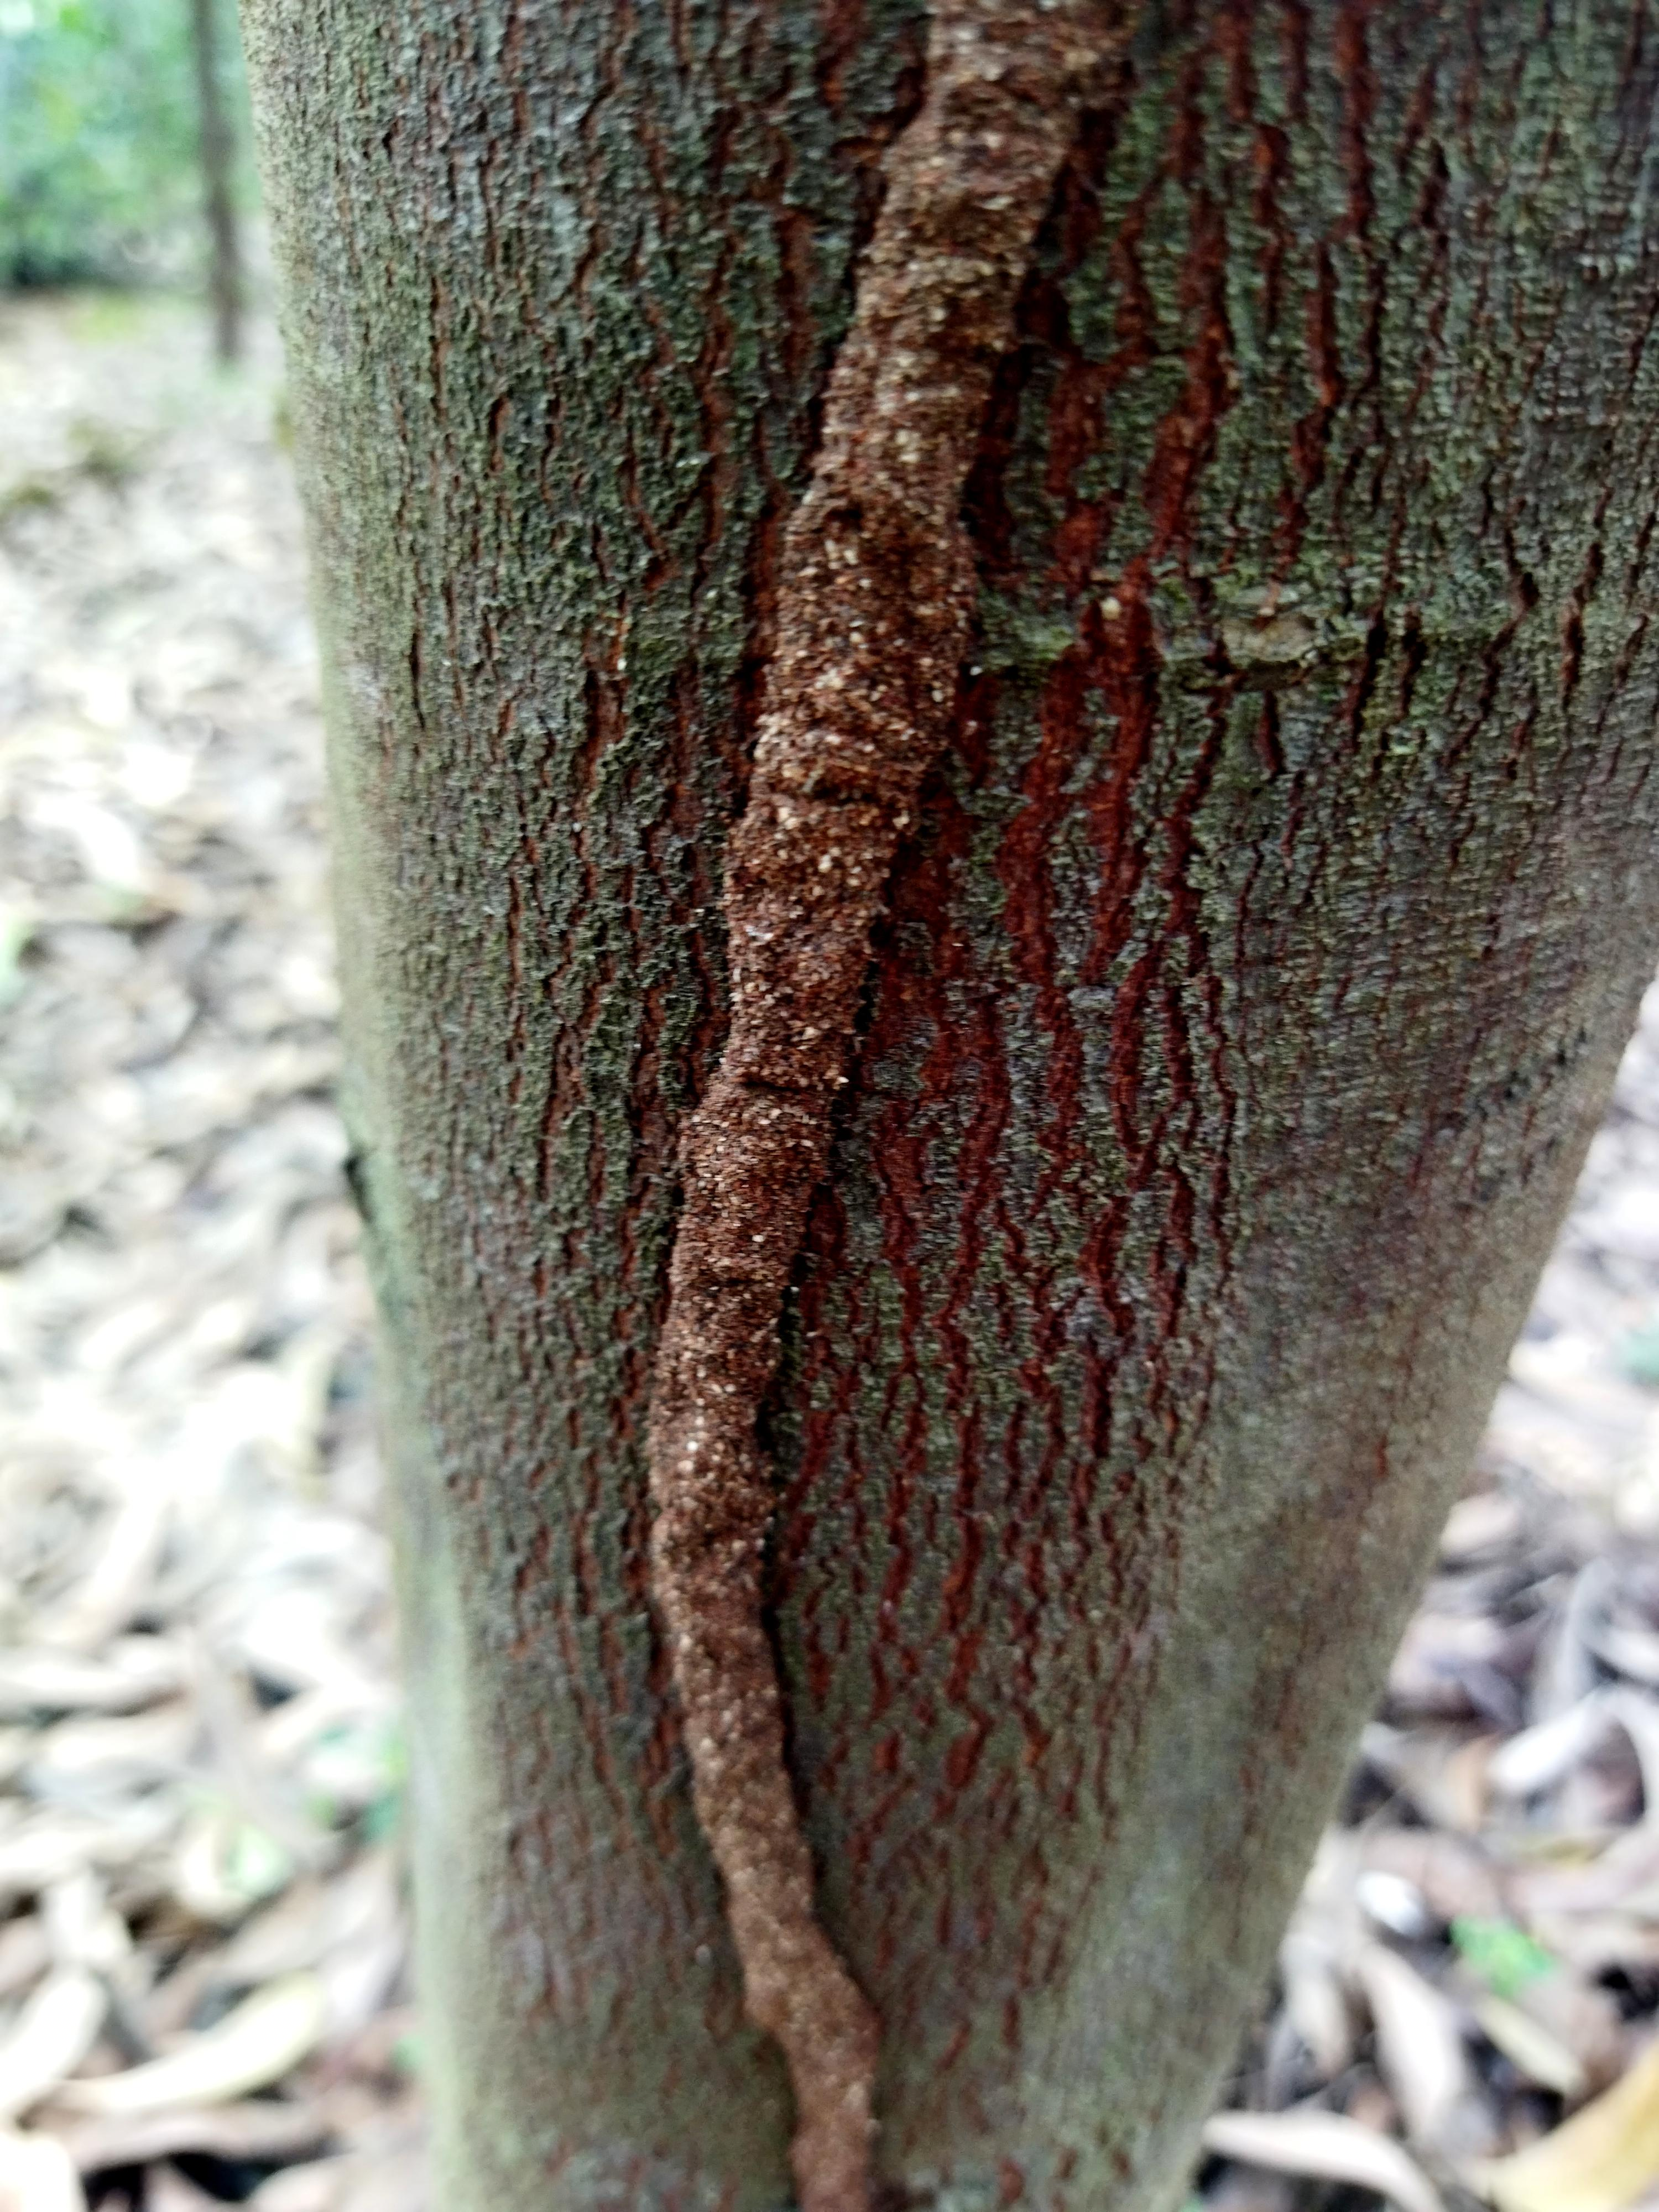Termite - Nest: (643, 12, 1089, 2212)
